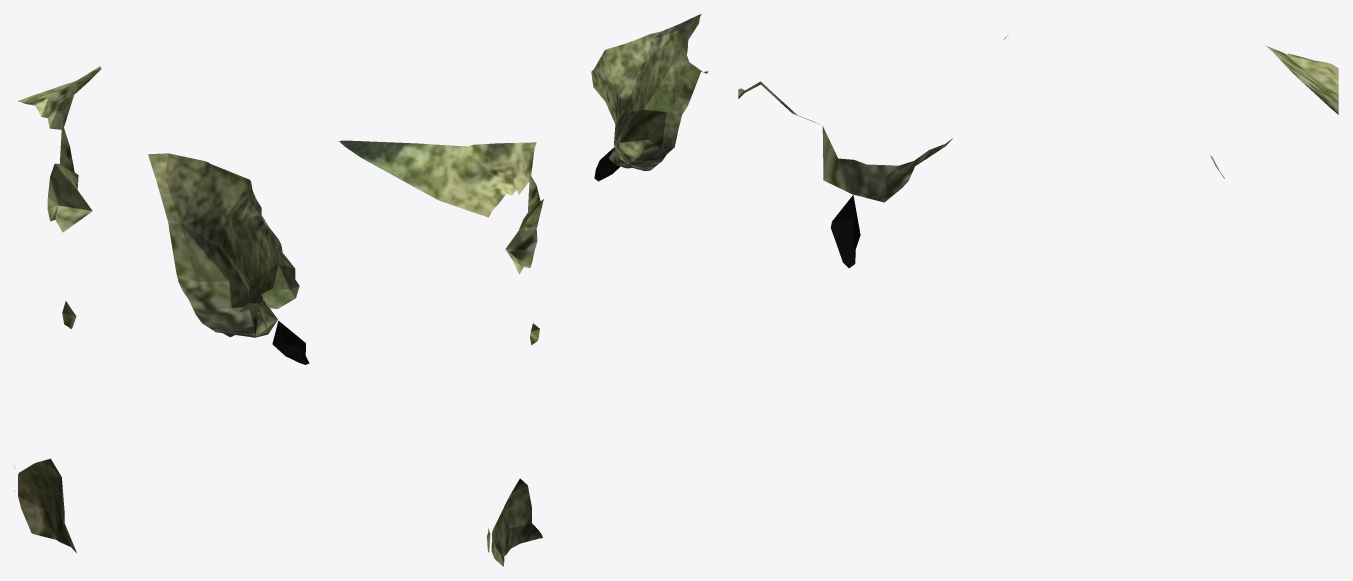
3 views of the same model, side by side, from view 1: azimuth 30°, elevation 25°; view 2: azimuth 150°, elevation 25°; view 3: azimuth 270°, elevation 25° (orthographic). The views are drawn at different scales.
Size of the model in its own units: 2.32 by 5.9 by 5.9.
Materials: 1 (1 with a texture image).
